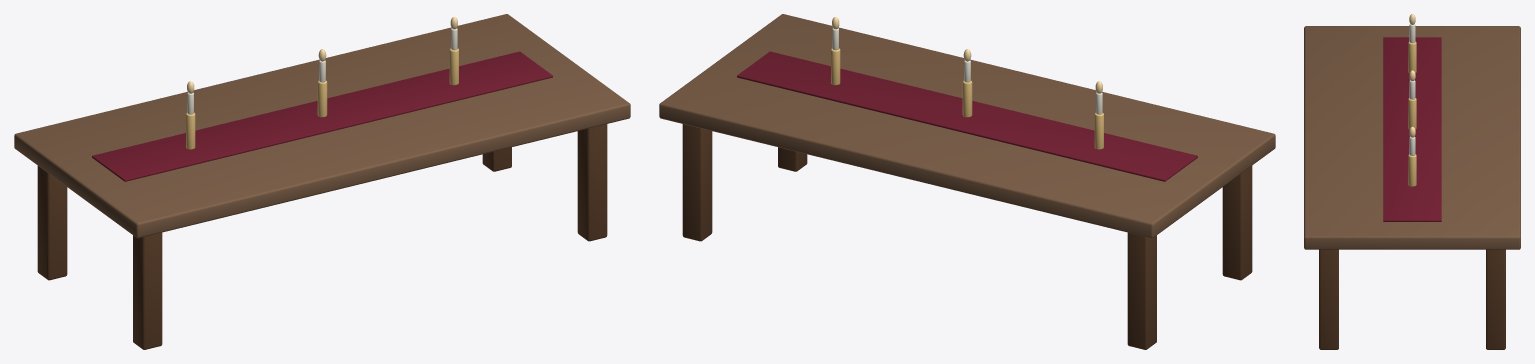
The model's file is table.fbx.
3 renders of one model, left to right at view 1: azimuth 30°, elevation 25°; view 2: azimuth 150°, elevation 25°; view 3: azimuth 270°, elevation 25°, orthographic. The views are drawn at different scales.
Parts seen in each view (by area): view 1: top, runner, leg.002, leg, leg.001, leg.003; view 2: top, runner, leg.003, leg.001, leg, leg.002; view 3: top, runner, leg.002, leg.003, stick.002, stick, stick.001.
Boxes of the visible parts, x1,y1,x2,y2 form: top: (14,14,630,238); runner: (92,51,552,181); leg.002: (577,124,607,241); leg: (133,232,162,349); leg.001: (37,166,67,280); leg.003: (482,147,511,171); top: (659,14,1275,238); runner: (737,51,1197,181); leg.003: (682,124,712,241); leg.001: (1127,232,1156,349); leg: (1222,166,1252,280); leg.002: (778,147,807,171); top: (1304,26,1520,249); runner: (1383,37,1441,221); leg.002: (1319,249,1338,349); leg.003: (1486,249,1505,349); stick.002: (1408,154,1416,186); stick: (1408,41,1416,72); stick.001: (1408,98,1416,129).
Size of what is drawn, in the model's own units: 300 by 120 by 130.
